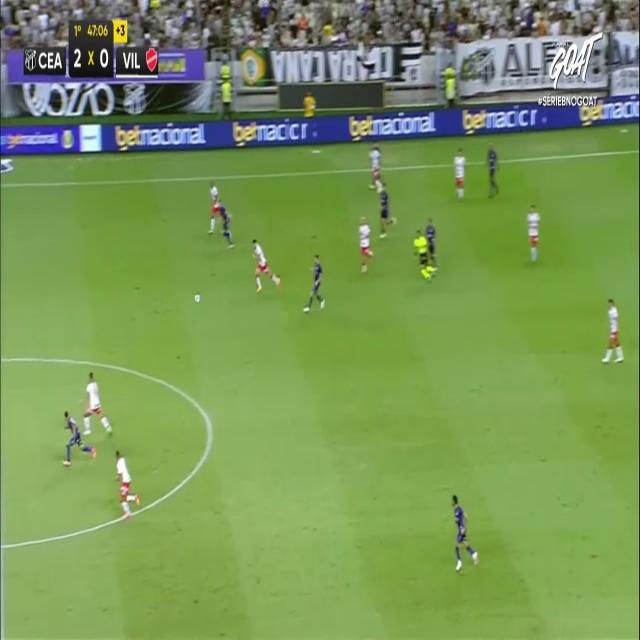ball: (193, 292, 201, 307)
player: (78, 371, 112, 437), (452, 494, 479, 572), (62, 409, 96, 467), (113, 449, 139, 519), (251, 238, 281, 293), (601, 297, 623, 363), (205, 177, 227, 240), (208, 197, 234, 249), (303, 253, 325, 312), (375, 179, 397, 238), (485, 141, 502, 205), (525, 202, 543, 261), (358, 215, 374, 274), (369, 140, 386, 195), (426, 215, 441, 271), (453, 150, 468, 204)
referee: (413, 228, 438, 281)
